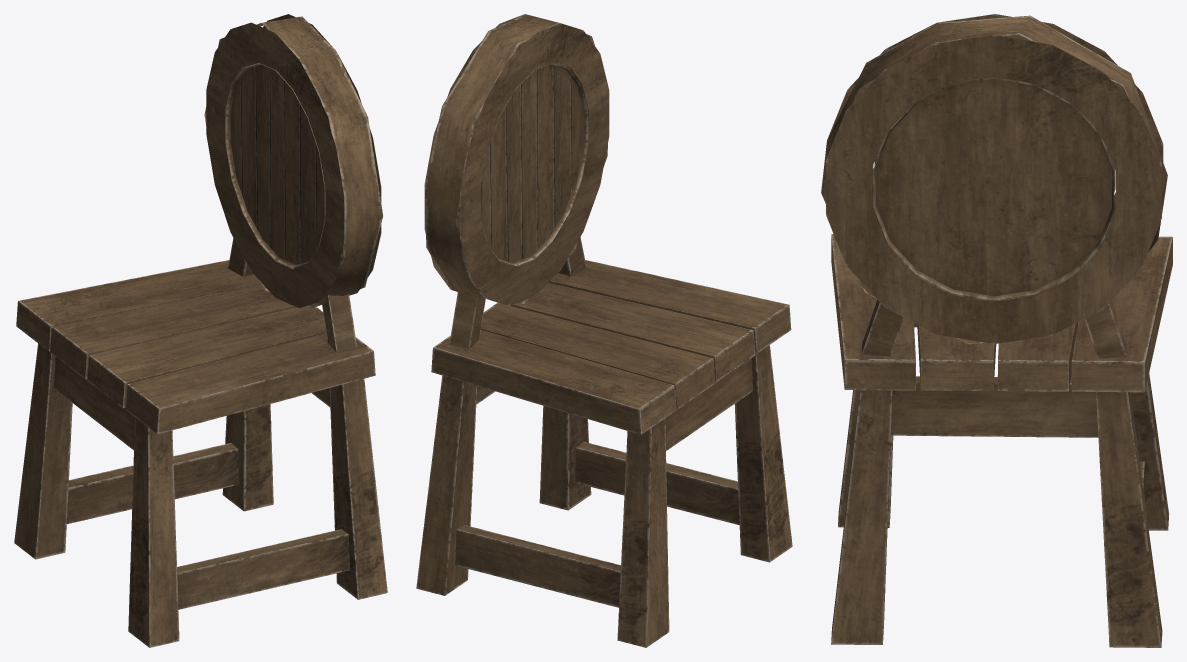
Rendered from chair.glb.
3 renders of one model, left to right at view 1: azimuth 30°, elevation 25°; view 2: azimuth 150°, elevation 25°; view 3: azimuth 270°, elevation 25°, orthographic. The views are drawn at different scales.
Parts seen in each view (by area): view 1: Cube.046_chair5_0; view 2: Cube.046_chair5_0; view 3: Cube.046_chair5_0.
Boxes of the visible parts, bbox=[...] form: Cube.046_chair5_0: bbox=[14, 14, 387, 647]; Cube.046_chair5_0: bbox=[416, 14, 792, 647]; Cube.046_chair5_0: bbox=[821, 14, 1172, 647].
Bounding box in the file's own units: 0.4779 × 0.9843 × 0.5171.
1 material, 1 textured.
